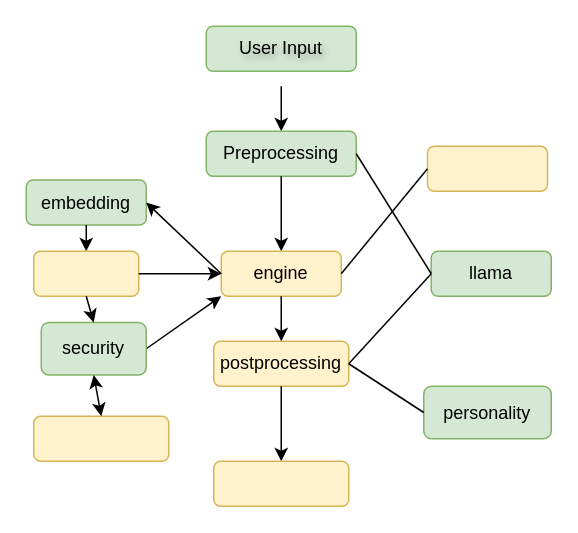
The diagram is 578 pixels wide and 533 high, and some of its shapes have lost their labels. The shapes that lost their labels are listed below. From the top down, each one's box as (x1, y1, x2, y2) in pixels, then its label:
(426, 145, 548, 191): websearch
(32, 250, 139, 296): cache
(32, 415, 169, 461): vec db
(212, 460, 349, 506): output
